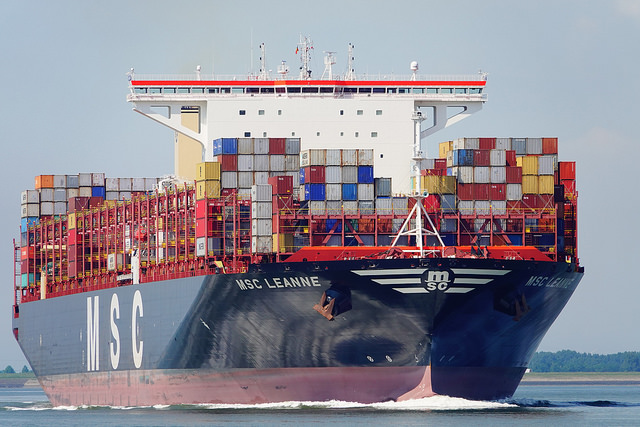container_ship: (11, 37, 583, 405)
